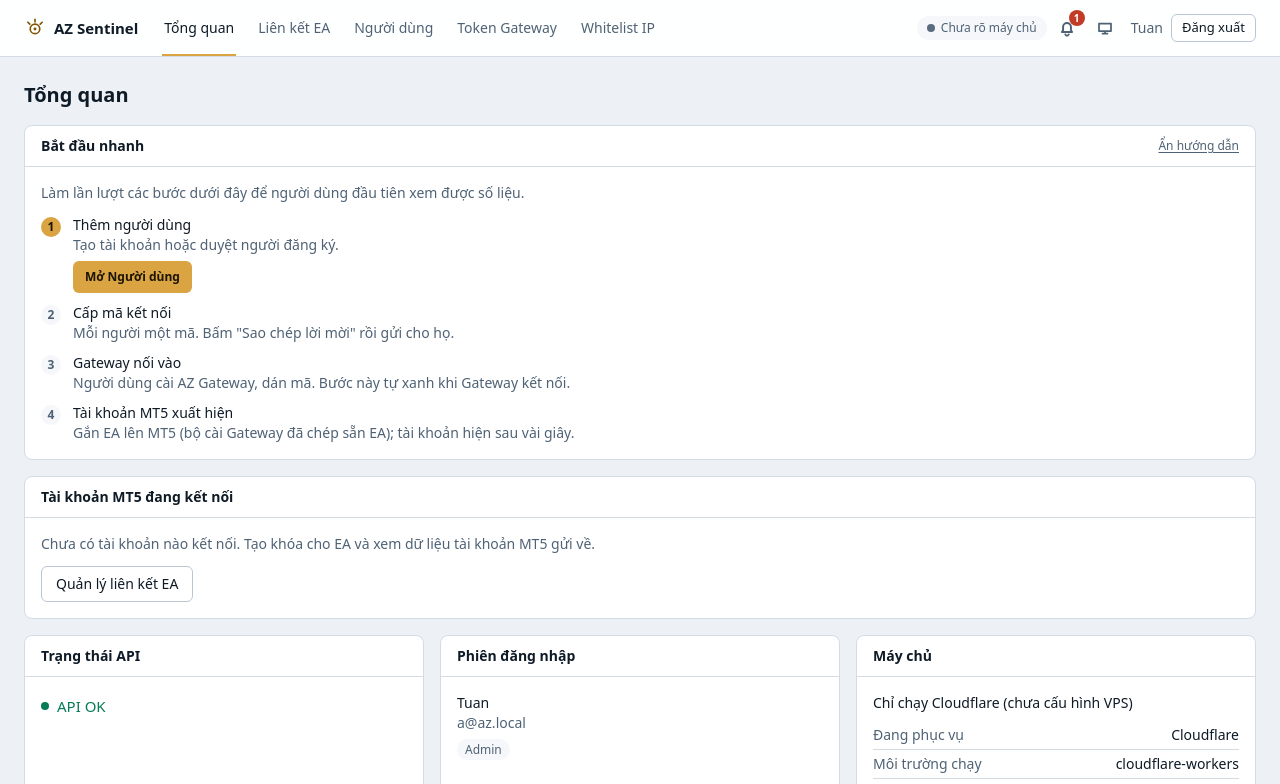
Test case: chuông thông báo › có thông báo chưa đọc: huy hiệu hiện số, danh sách hiện nội dung dạng văn bản thuần
This screenshot has width=1280, height=784.
Click the button "1" at (1067, 28), box [1051, 12, 1083, 44]
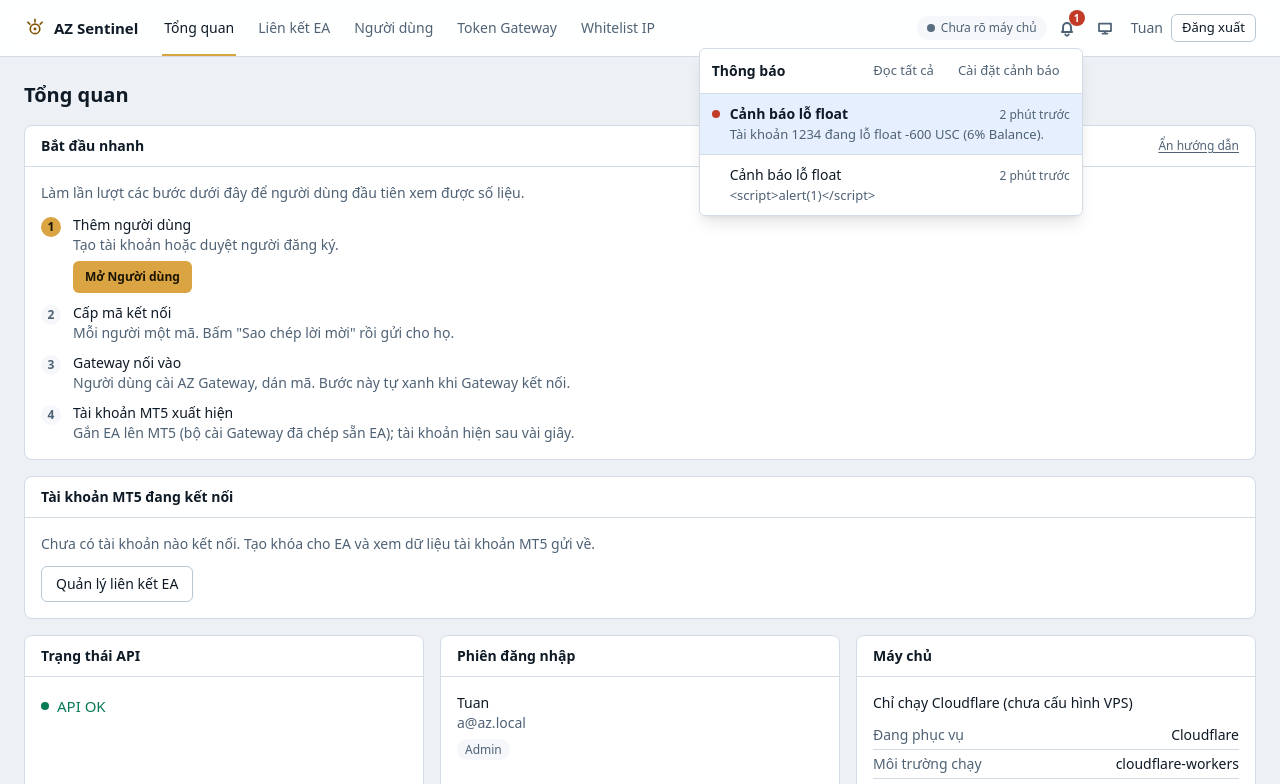
Now the text "Tài khoản 1234 đang lỗ float -600 USC (6% Balance)." is shown, box [730, 126, 1070, 144]
Now the text "<script>alert(1)</script>" is shown, box [730, 186, 875, 204]
